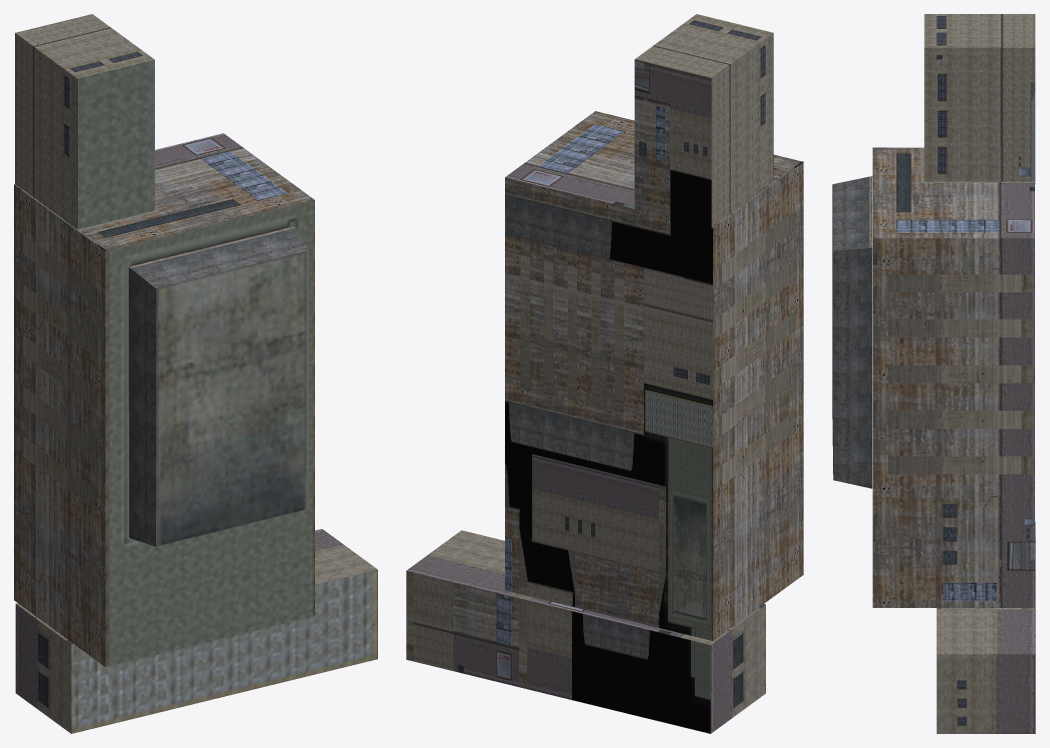
Rendered from kraftwerk_LOD2.fbx.
3 views of the same model, side by side, from view 1: azimuth 30°, elevation 25°; view 2: azimuth 150°, elevation 25°; view 3: azimuth 270°, elevation 25° (orthographic). The views are drawn at different scales.
Visible parts, largest first — view 1: MDL-polym1; view 2: MDL-polym1; view 3: MDL-polym1.
Boxes of the visible parts, left/top/right/bottom form: MDL-polym1: left=14, top=14, right=377, bottom=733; MDL-polym1: left=406, top=14, right=803, bottom=733; MDL-polym1: left=832, top=14, right=1035, bottom=733.
Bounding box in the file's own units: 63.73 × 130 × 40.89.
